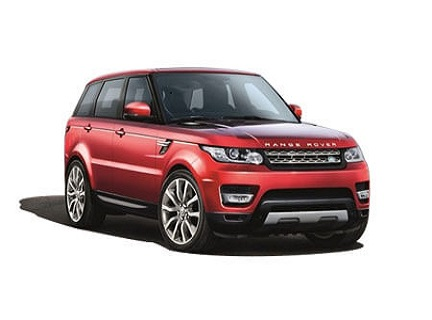路虎-揽胜运动版: (56, 65, 375, 254)
